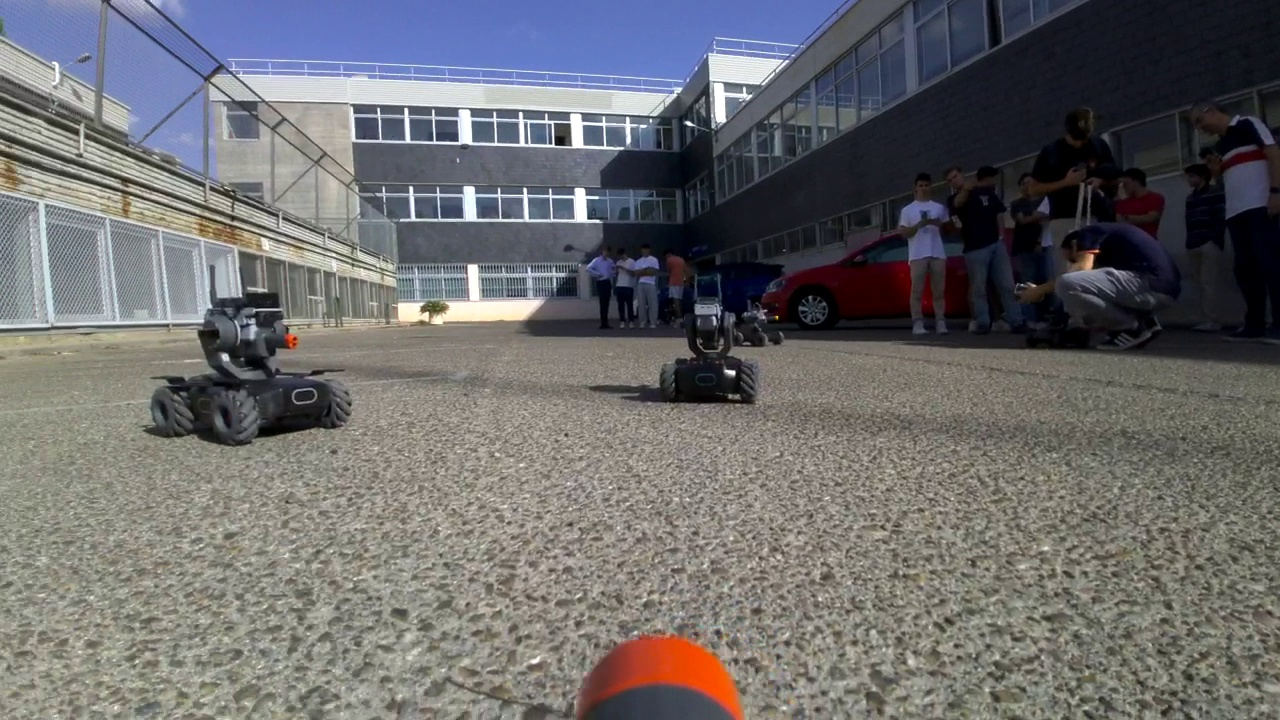robot: (150, 268, 351, 450), (658, 266, 762, 406), (735, 300, 786, 350)
